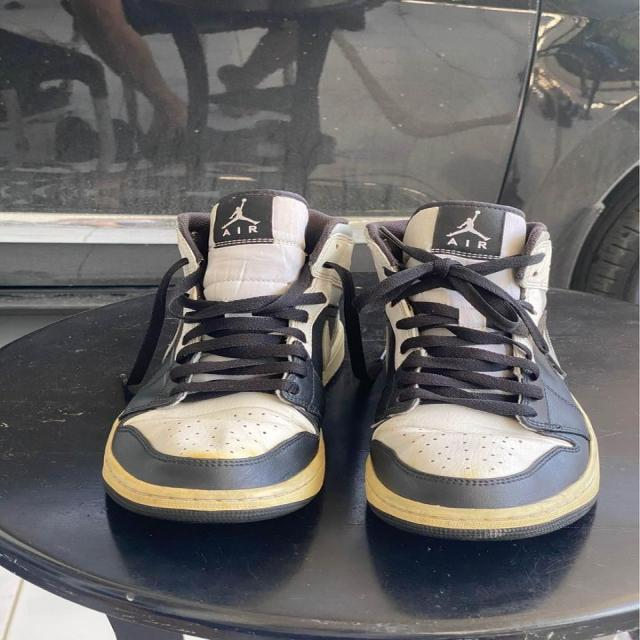nike fake jordan 1: (94, 185, 356, 522), (356, 197, 608, 546)
